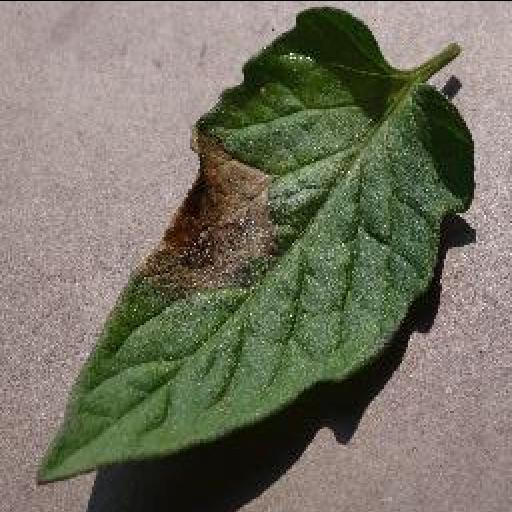disease_tomato: (26, 6, 478, 484)
